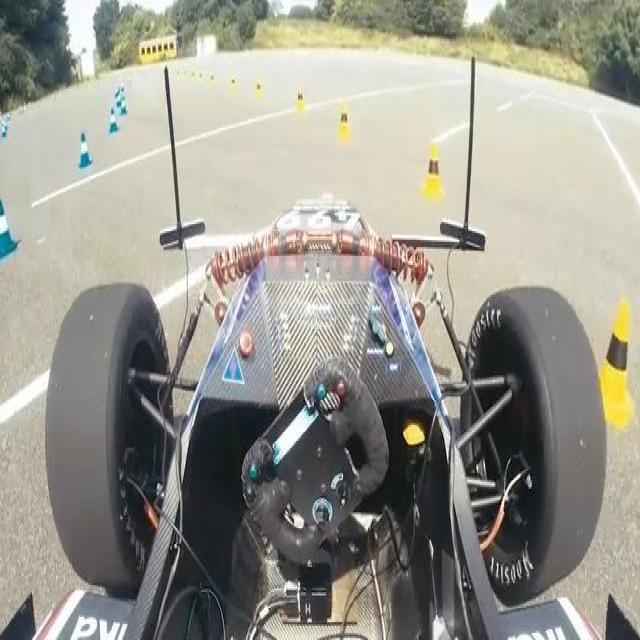blue_cone: (0, 198, 20, 266), (79, 133, 93, 169), (109, 106, 119, 134)
yellow_cone: (591, 300, 637, 427), (422, 140, 447, 200), (337, 101, 353, 141)
